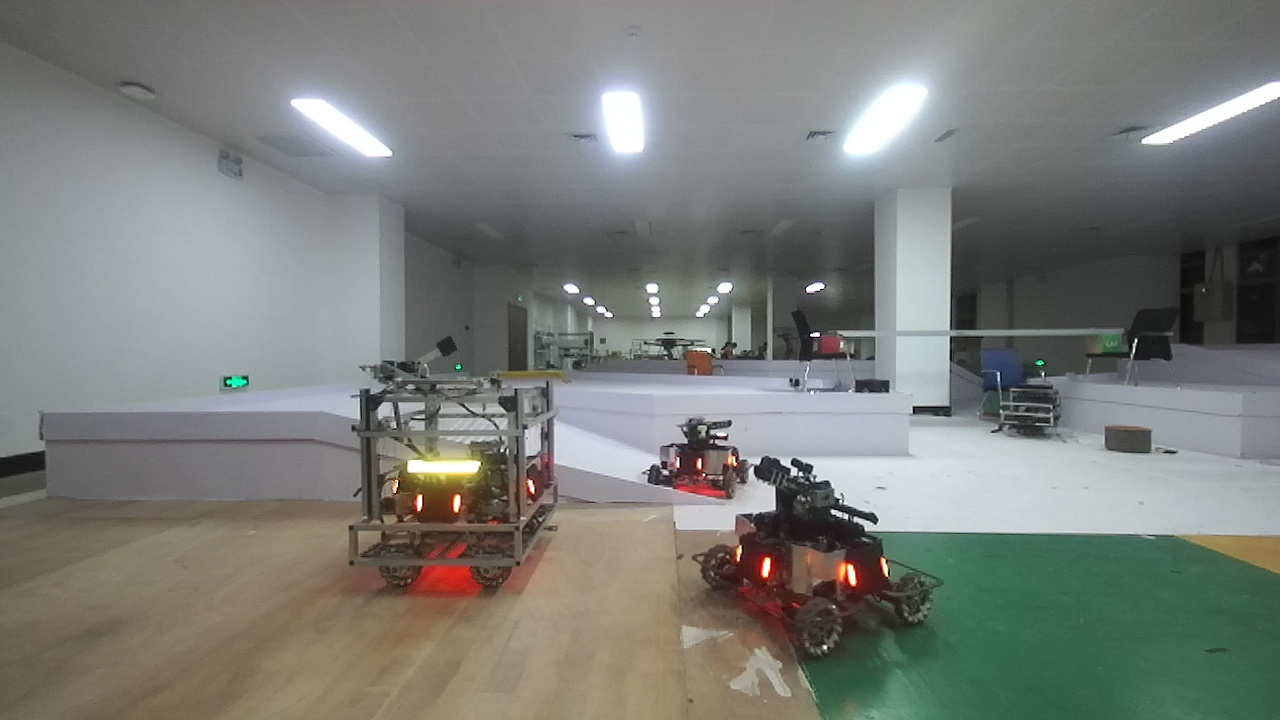car: (332, 358, 593, 606), (688, 458, 955, 654), (632, 412, 754, 506)
